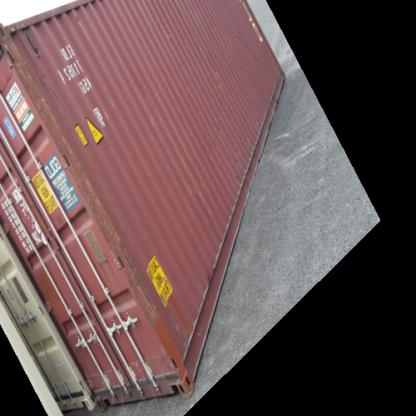Damage: (77, 166, 157, 320), (17, 54, 73, 174)
